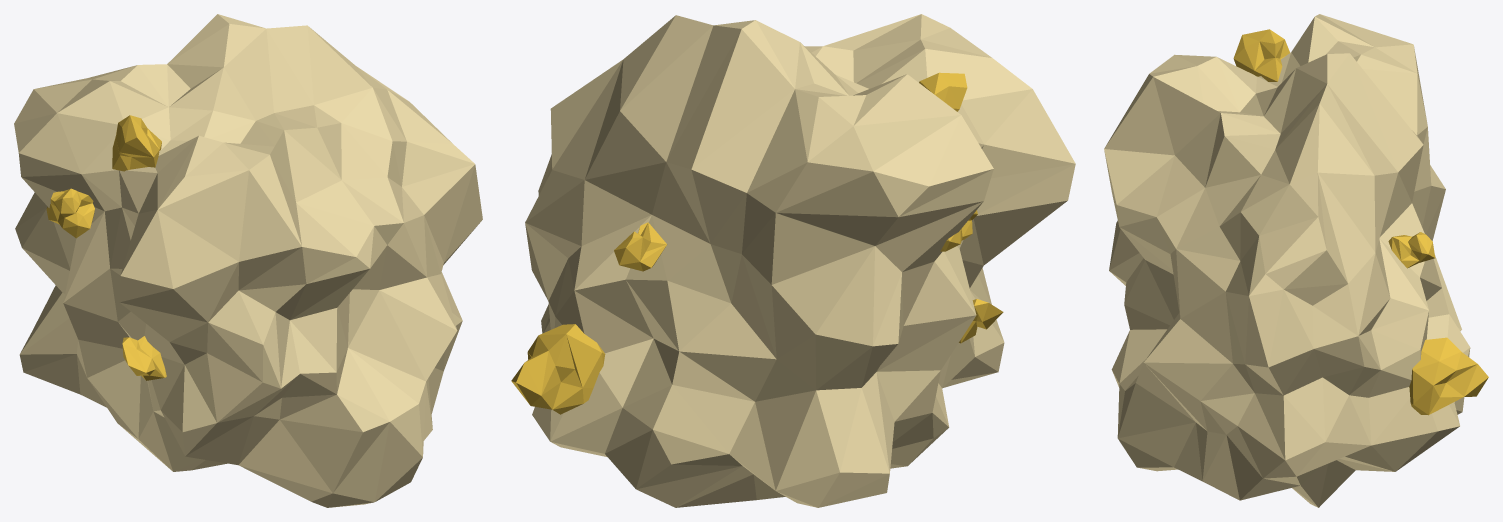
File: MetalOre (26).fbx
3 views of the same model, side by side, from view 1: azimuth 30°, elevation 25°; view 2: azimuth 150°, elevation 25°; view 3: azimuth 270°, elevation 25° (orthographic). The views are drawn at different scales.
Parts seen in each view (by area): view 1: Asteroid381; view 2: Asteroid381; view 3: Asteroid381.
Part boxes in pixels (bbox=[...]): Asteroid381: bbox=[14, 14, 482, 507]; Asteroid381: bbox=[511, 14, 1075, 507]; Asteroid381: bbox=[1104, 14, 1488, 507].
Bounding box in the file's own units: 368 × 366 × 304.
